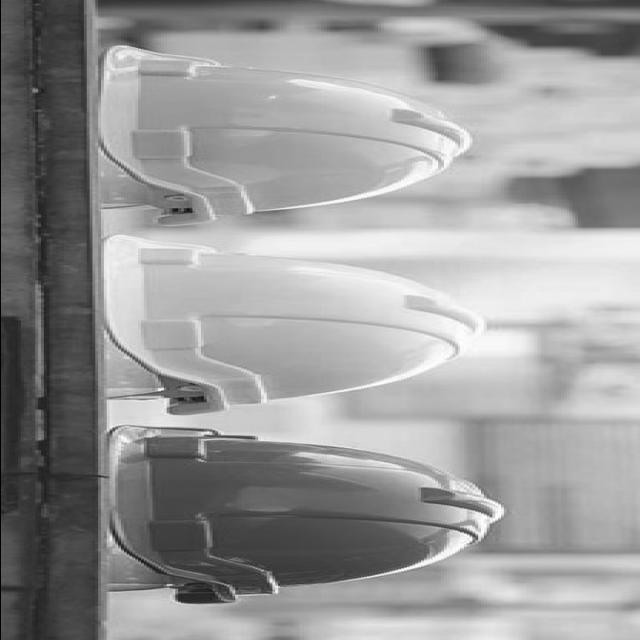safety_helmet: (94, 44, 471, 223), (103, 230, 477, 410)
